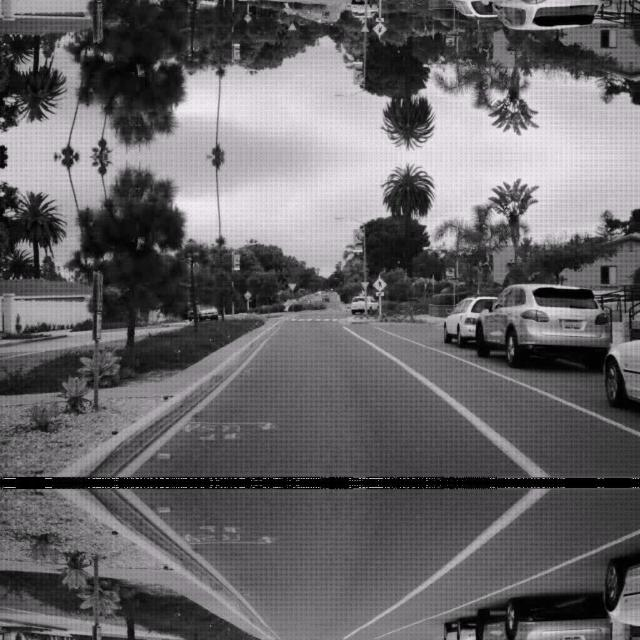pedestrianCrossing: (372, 276, 386, 290), (372, 22, 386, 36)
yield: (359, 280, 368, 288), (359, 24, 368, 32), (288, 282, 296, 290), (288, 22, 296, 30)
